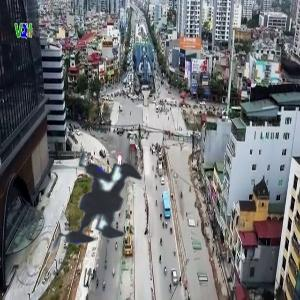drone: (7, 108, 197, 298)
